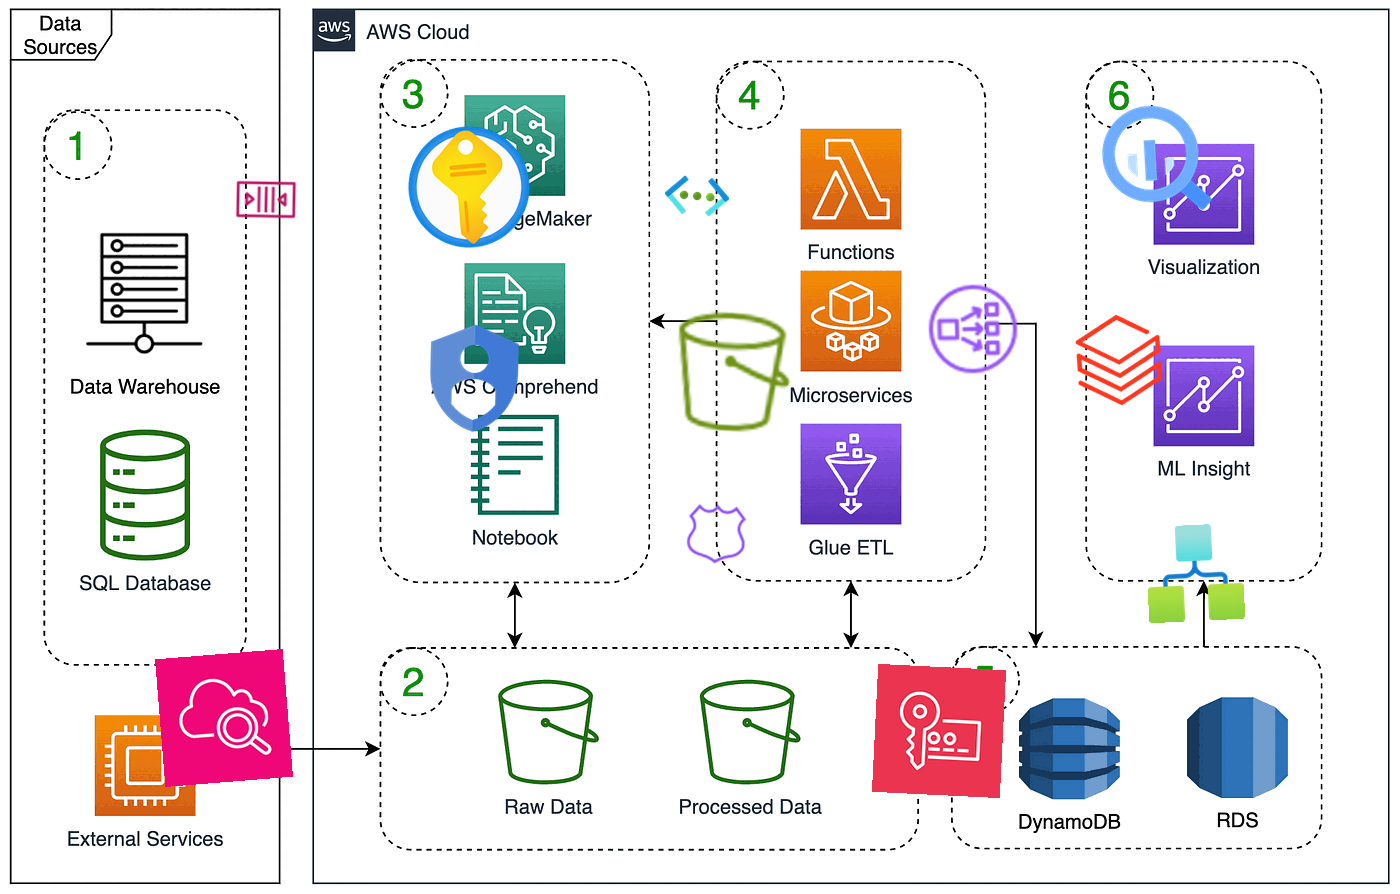aws_amazon_cloudwatch: (155, 649, 293, 787)
aws_elastic_load_balancing_network_load_balancer: (924, 280, 1022, 378)
aws_key_management_service: (871, 663, 1007, 799)
aws_route_53_hosted_zone: (682, 499, 752, 569)
aws_simple_queue_service_queue: (233, 166, 299, 232)
aws_simple_storage_service_bucket: (665, 304, 801, 440)
azure_databricks: (1067, 308, 1171, 412)
azure_key_vaults: (399, 117, 539, 257)
azure_logic_apps: (1144, 521, 1246, 624)
azure_virtual_networks: (662, 161, 732, 231)
gcp_bigquery: (1088, 91, 1224, 227)
gcp_identity_and_access_management: (408, 312, 540, 444)
